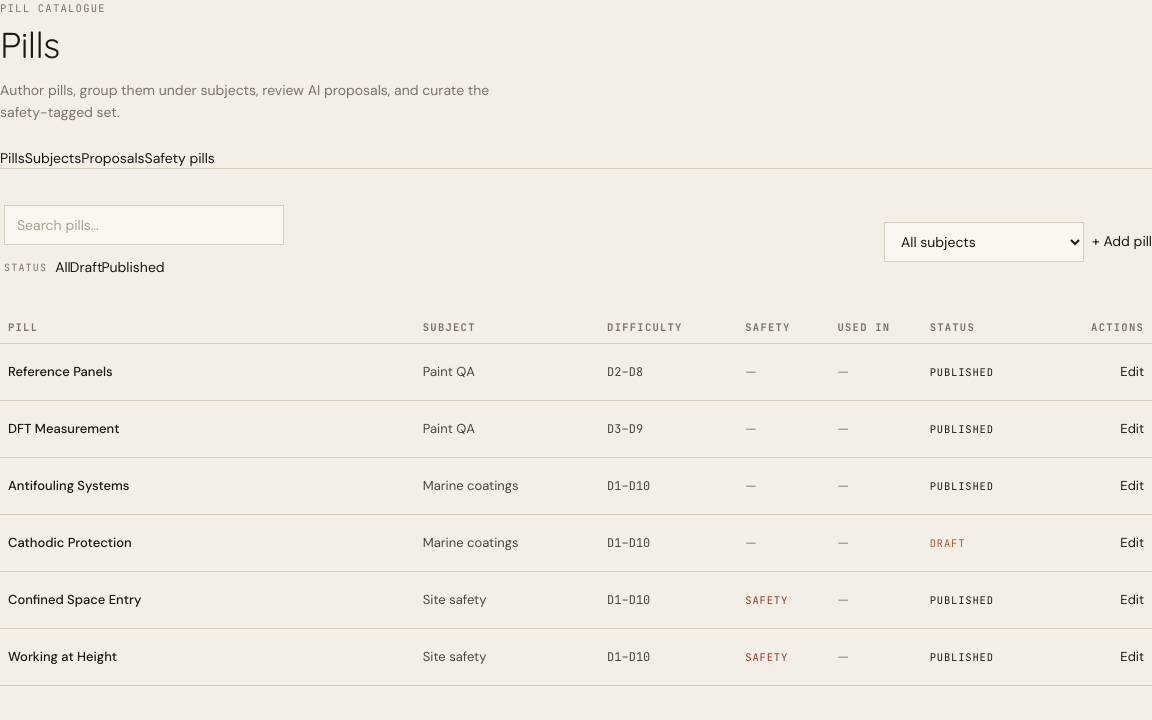
Test: pills tab — edit modal › PATCHes only the dirty fields and updates the list
The width and height of the screenshot is (1152, 720).
Expected: the text "Reference Panels" is shown, [0,344,415,401]
Step 1. Click the button "Edit" in the row of "Reference Panels" → x=1132, y=372, box [1120,354,1144,390]
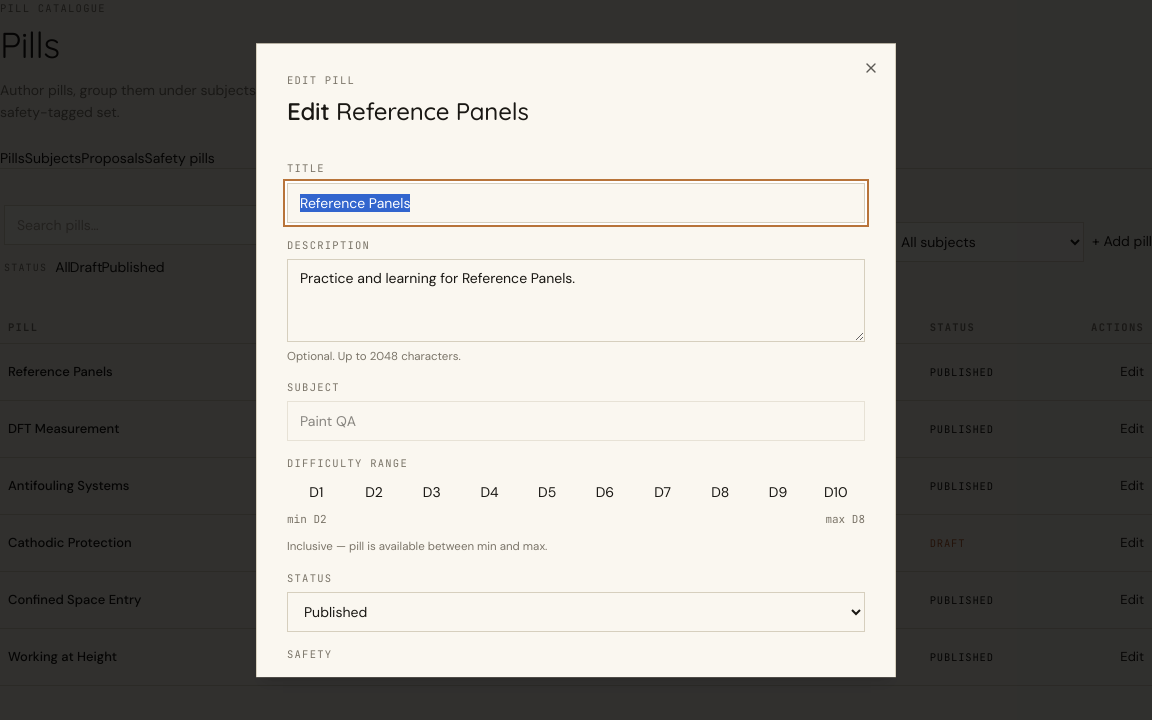
Step 2. Replace the text in the field with test id "pill-modal-name" with "Reference Panels v2" → x=576, y=203, box [287,183,865,223]
(page scrolled)
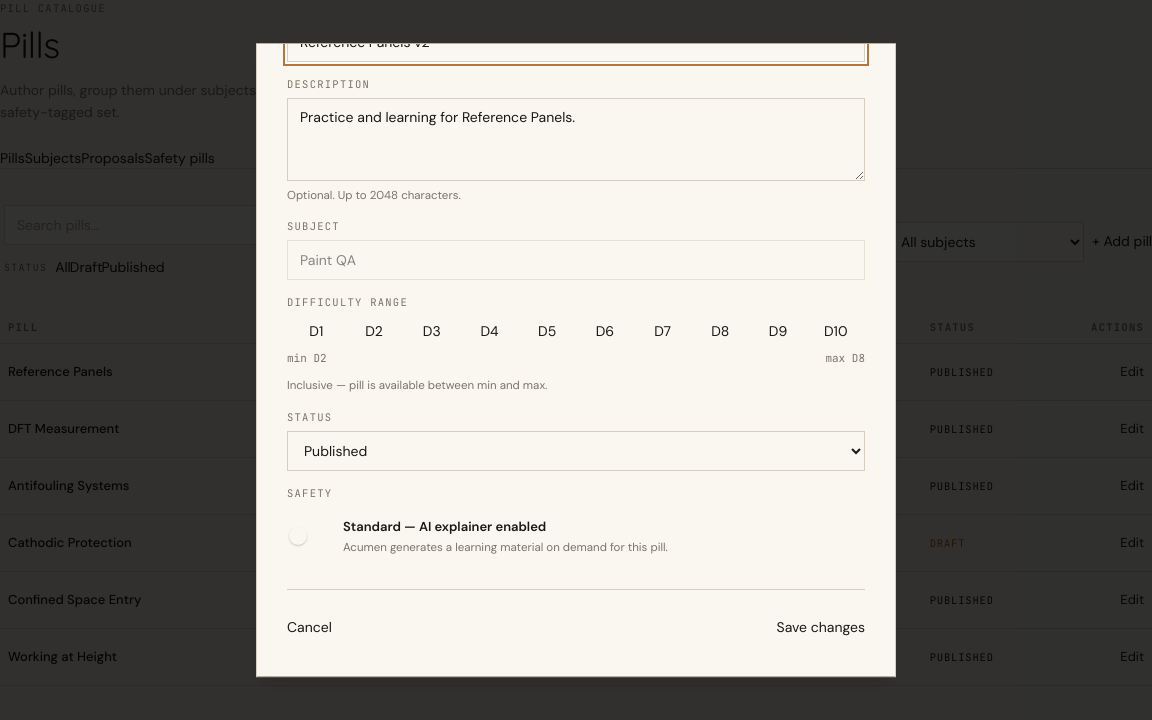
Step 3. Click the button with test id "pill-modal-submit" → x=821, y=628, box [777,608,865,648]
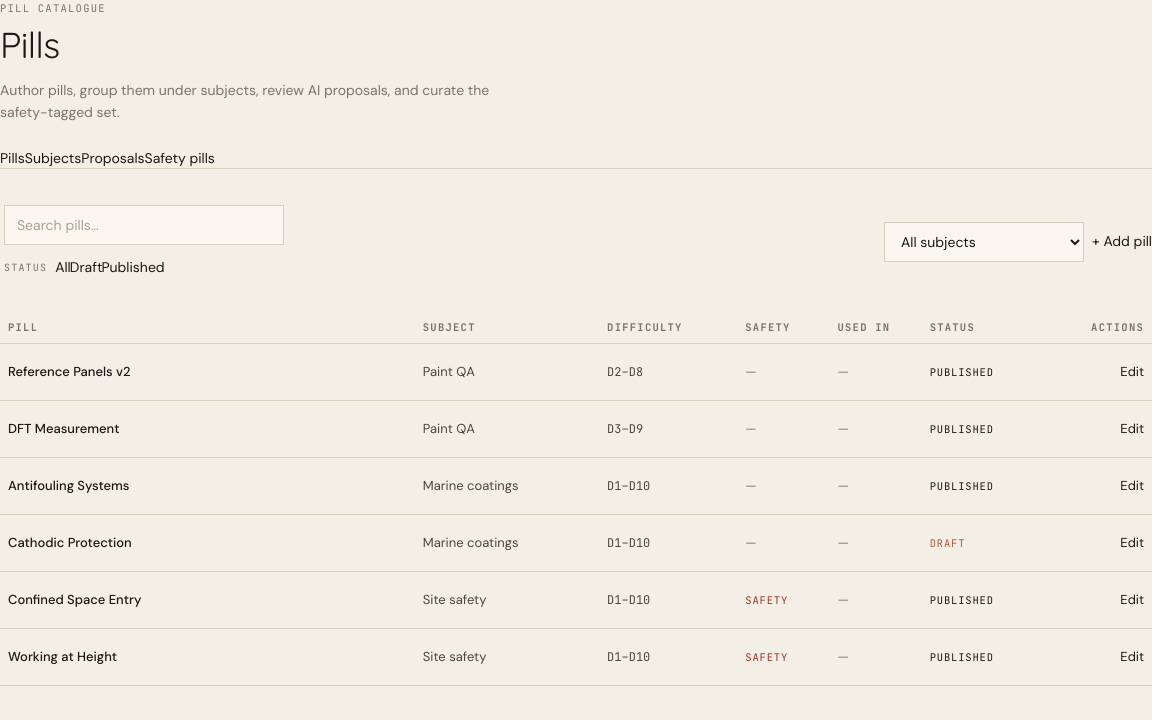
Now the text "Reference Panels" reads "Reference Panels v2", box [8,363,131,380]
